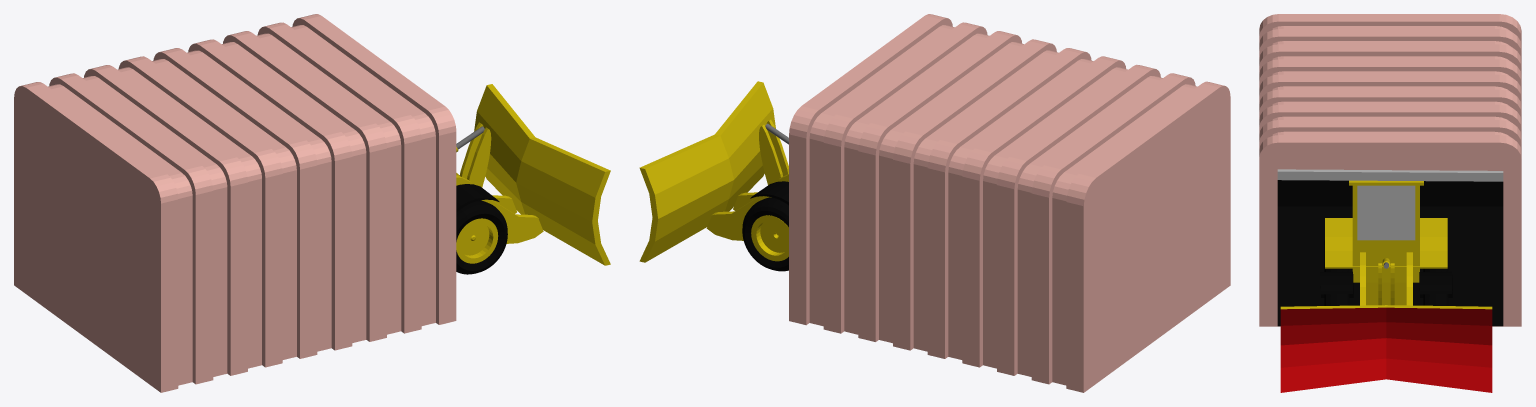
The model's file is GarageIn.fbx.
The picture shows the model from 3 angles, left to right: view 1: azimuth 30°, elevation 25°; view 2: azimuth 150°, elevation 25°; view 3: azimuth 270°, elevation 25°; orthographic projection. The views are drawn at different scales.
Parts seen in each view (by area): view 1: Cube, Cube.001; view 2: Cube, Cube.001; view 3: Cube, Cube.001.
Part boxes in pixels (box(x1,y1,x2,y2)): Cube: box(14, 14, 456, 392); Cube.001: box(456, 84, 610, 274); Cube: box(789, 14, 1230, 392); Cube.001: box(639, 81, 788, 271); Cube: box(1259, 14, 1521, 326); Cube.001: box(1280, 180, 1492, 392).
Size of the model in its own units: 2153 by 920 by 1188.
